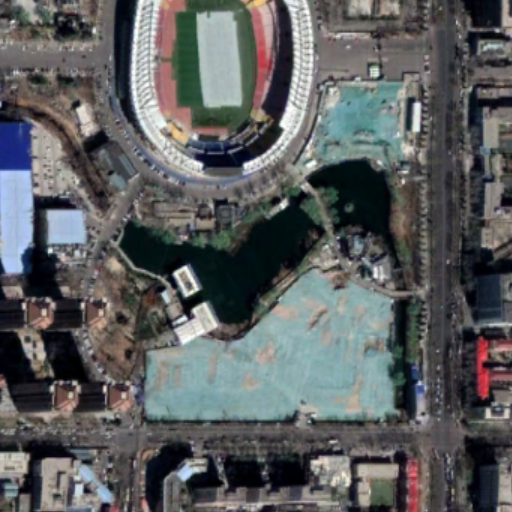cw: (141, 263, 401, 422), (302, 76, 411, 183)
